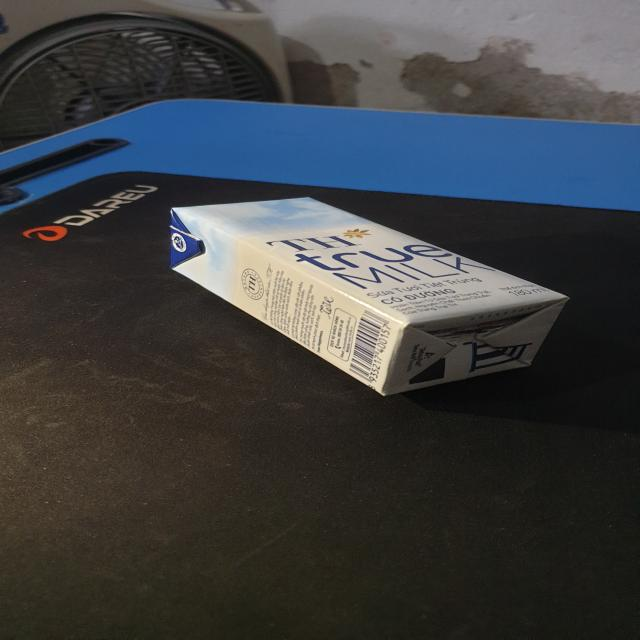TH: (156, 191, 578, 402)
